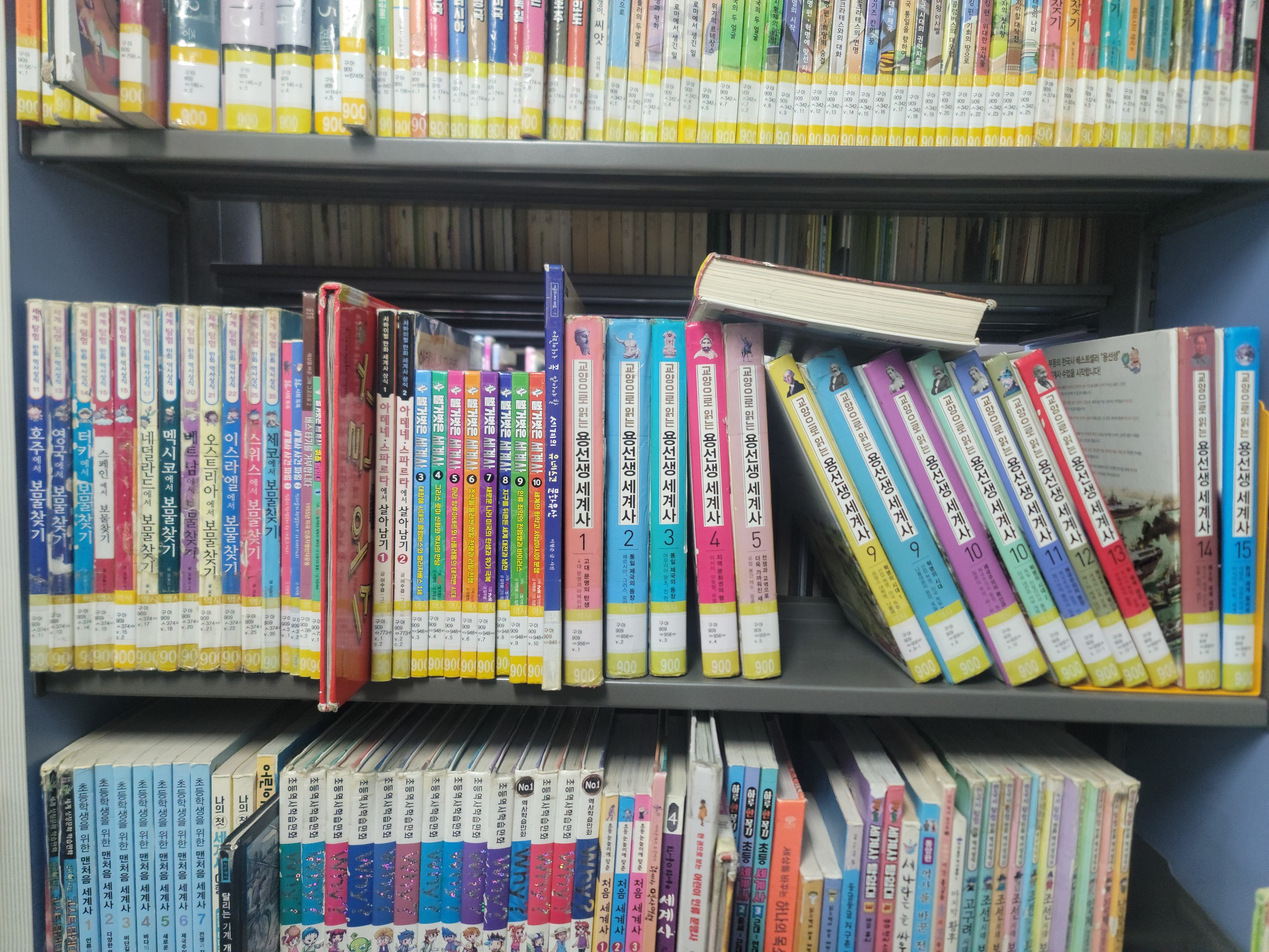book-spine: (797, 347, 1003, 687), (859, 346, 1055, 690), (911, 345, 1090, 689), (764, 353, 948, 685), (947, 346, 1124, 689), (1013, 347, 1186, 689), (982, 349, 1153, 689), (722, 324, 782, 682), (682, 320, 741, 680), (1176, 326, 1221, 688), (606, 318, 650, 677), (565, 317, 605, 685), (1222, 327, 1260, 689), (650, 318, 688, 678), (44, 303, 72, 670), (371, 306, 396, 683), (25, 301, 50, 671), (391, 310, 415, 679), (199, 305, 221, 673), (544, 265, 563, 690), (136, 308, 158, 669), (93, 304, 114, 670), (72, 304, 93, 668), (158, 306, 179, 670), (179, 307, 200, 670), (114, 305, 134, 670), (242, 309, 262, 672), (283, 343, 304, 674), (221, 307, 240, 671), (443, 371, 465, 678), (476, 372, 498, 678), (410, 369, 431, 678), (508, 374, 529, 683), (460, 371, 481, 679), (299, 299, 316, 677), (262, 318, 280, 673), (428, 370, 448, 678), (527, 375, 546, 684), (290, 322, 304, 676), (497, 372, 512, 679)
